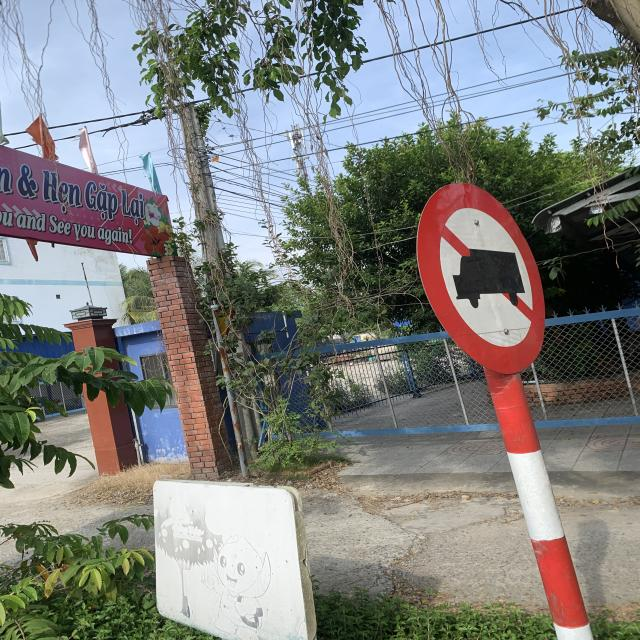Cam_Xe_Tai: (416, 181, 547, 372)
